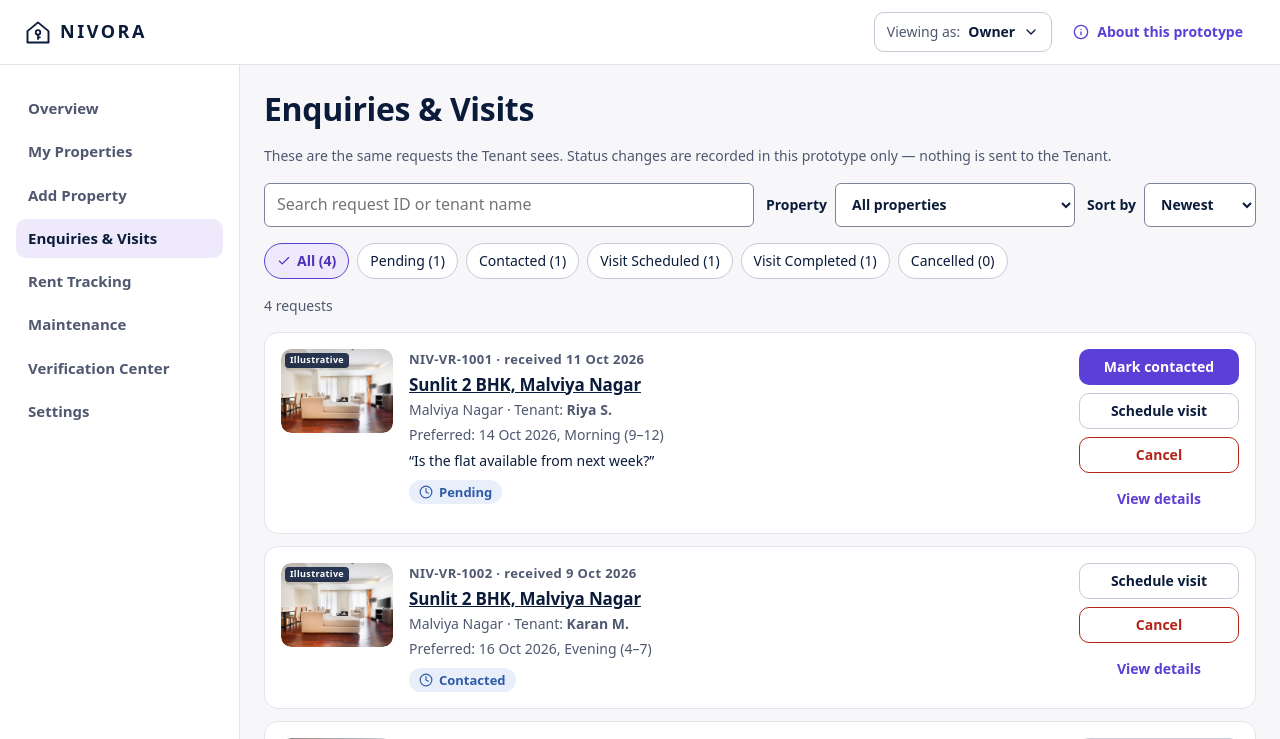
Test case: O-07 Enquiries & Visits (AC-14, AC-15, AC-23, AC-26 owner side) › reports a refused change as an error toast and never as success
The image size is (1280, 739).
Click the button with aria-label "Mark contacted for NIV-VR-1001": (1159, 367) [1079, 349, 1239, 385]
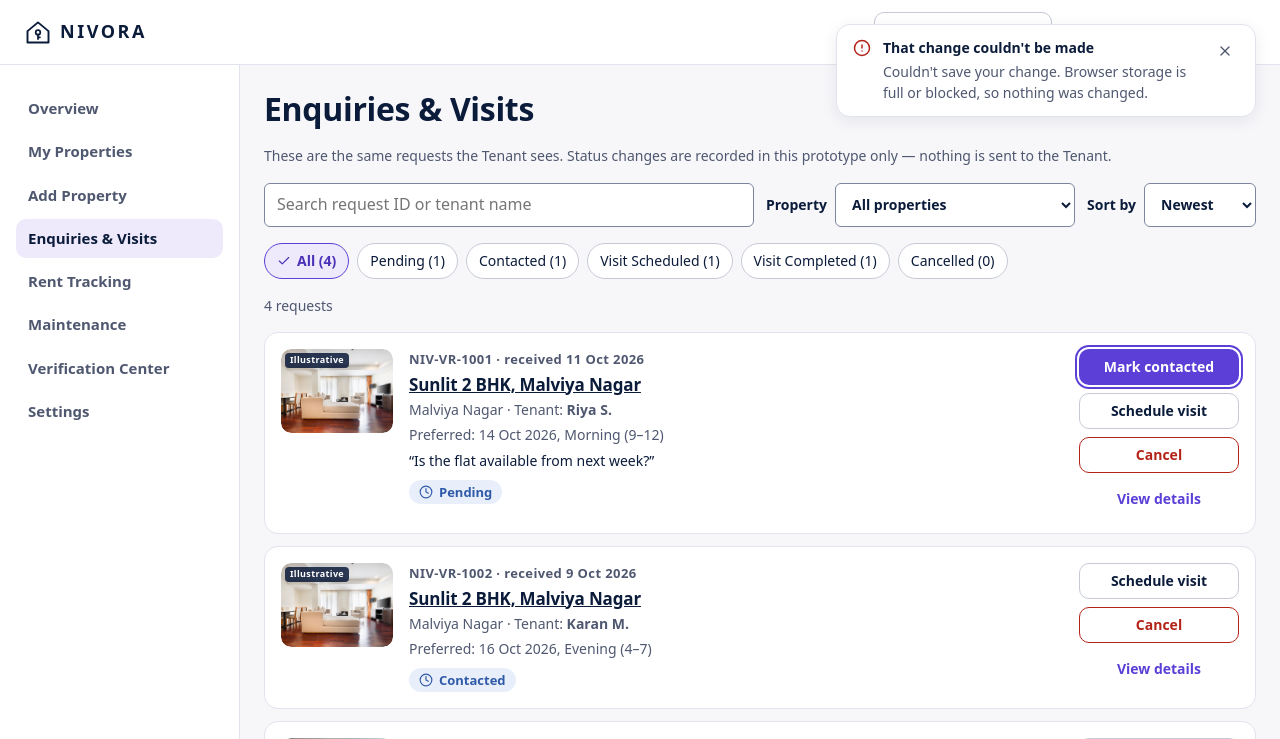
Now the text "That change couldn't be made" is shown, box [883, 38, 1094, 57]
Now the text "Couldn't save your change" is shown, box [883, 62, 1186, 102]
